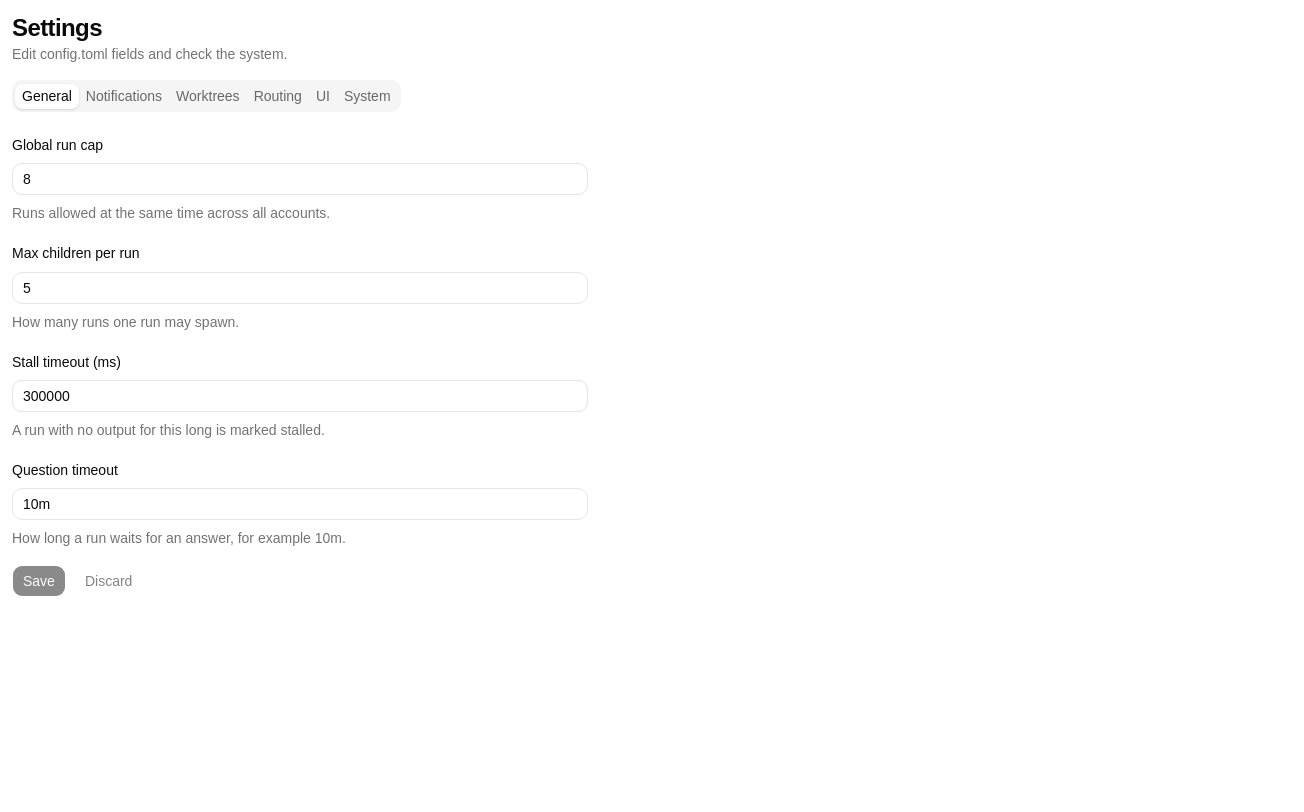
Test: SettingsPage drafts and key file › keeps the draft when the System tab is opened and closed
Replace the text in the number field labelled "Global run cap" with "3" at (300, 179), box [12,163,588,195]
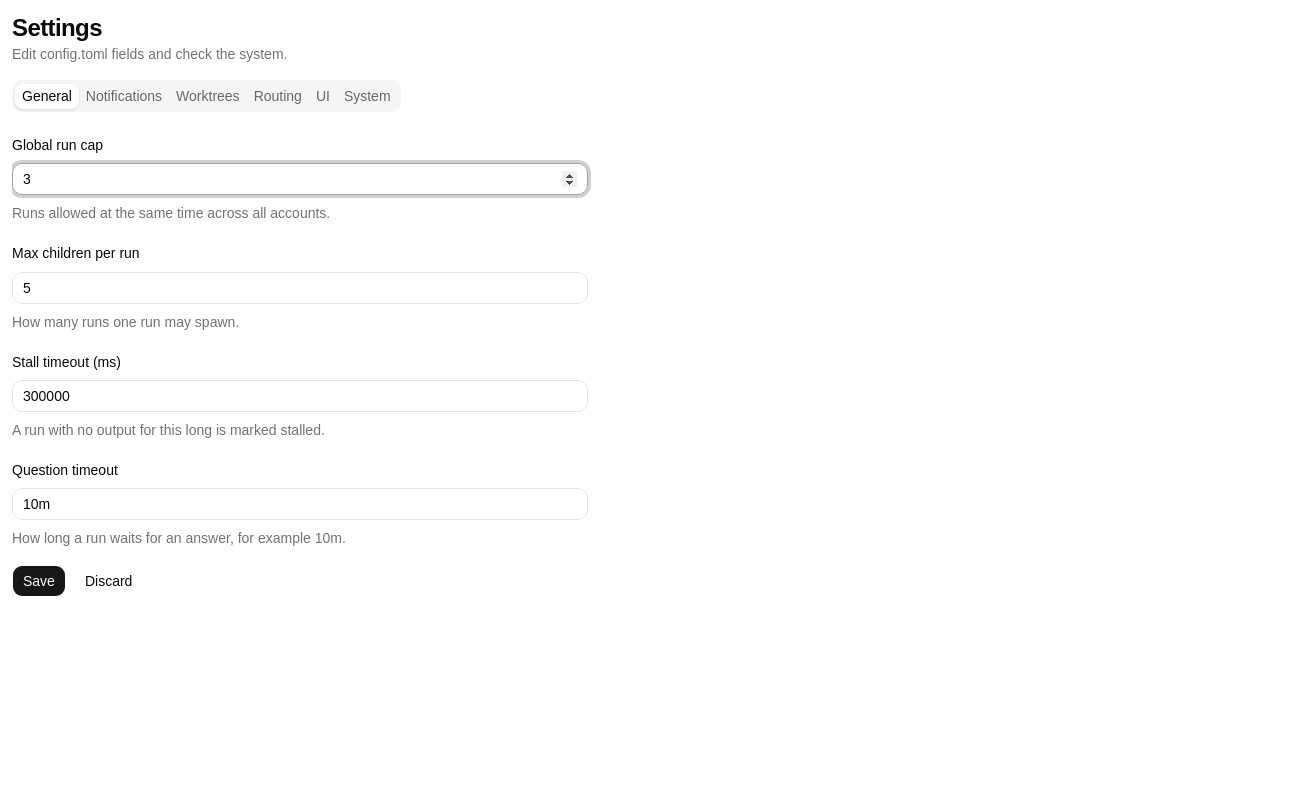
Click the tab "System" at (367, 96), box [337,84,398,108]
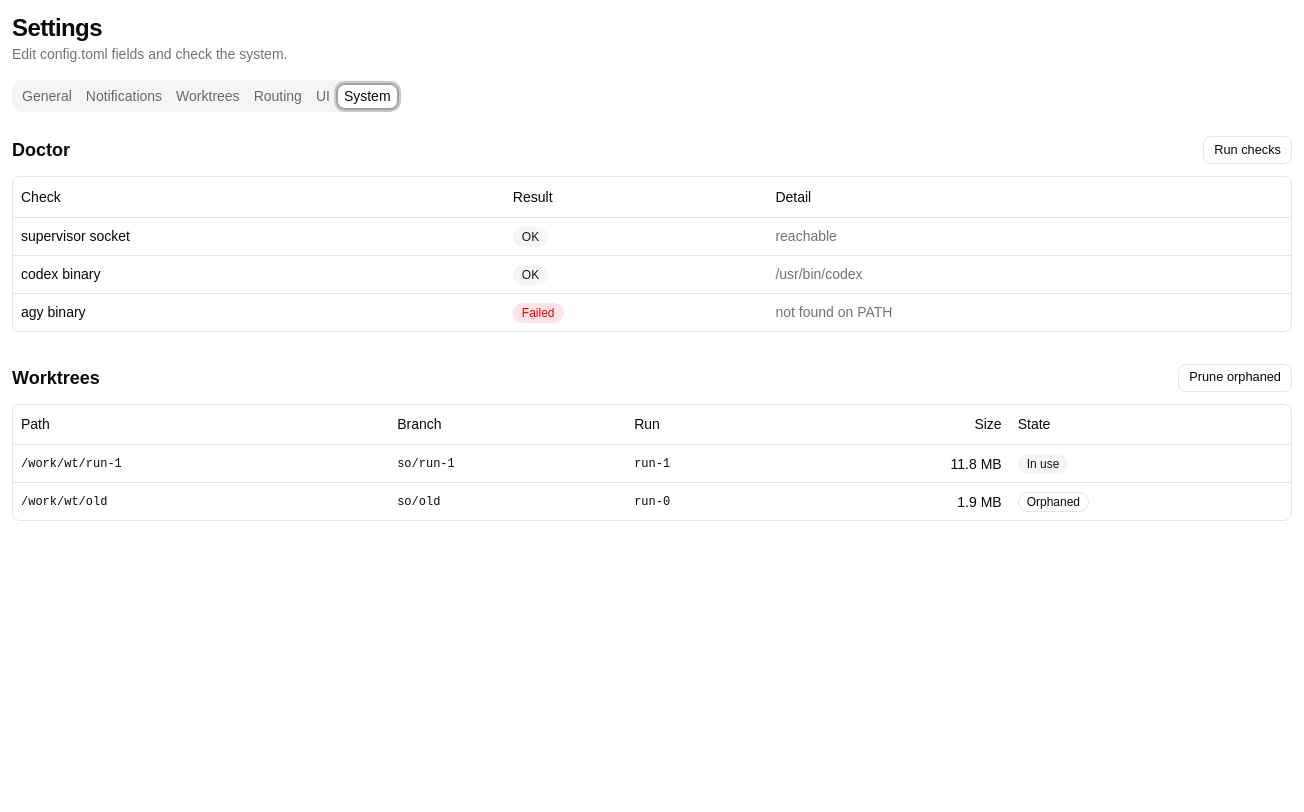
Now the row "agy binary Failed not found on PATH" is shown, box [13,293,1291,330]
Now the button "Save" is gone
Click the tab "General" at (47, 96), box [15,84,79,108]
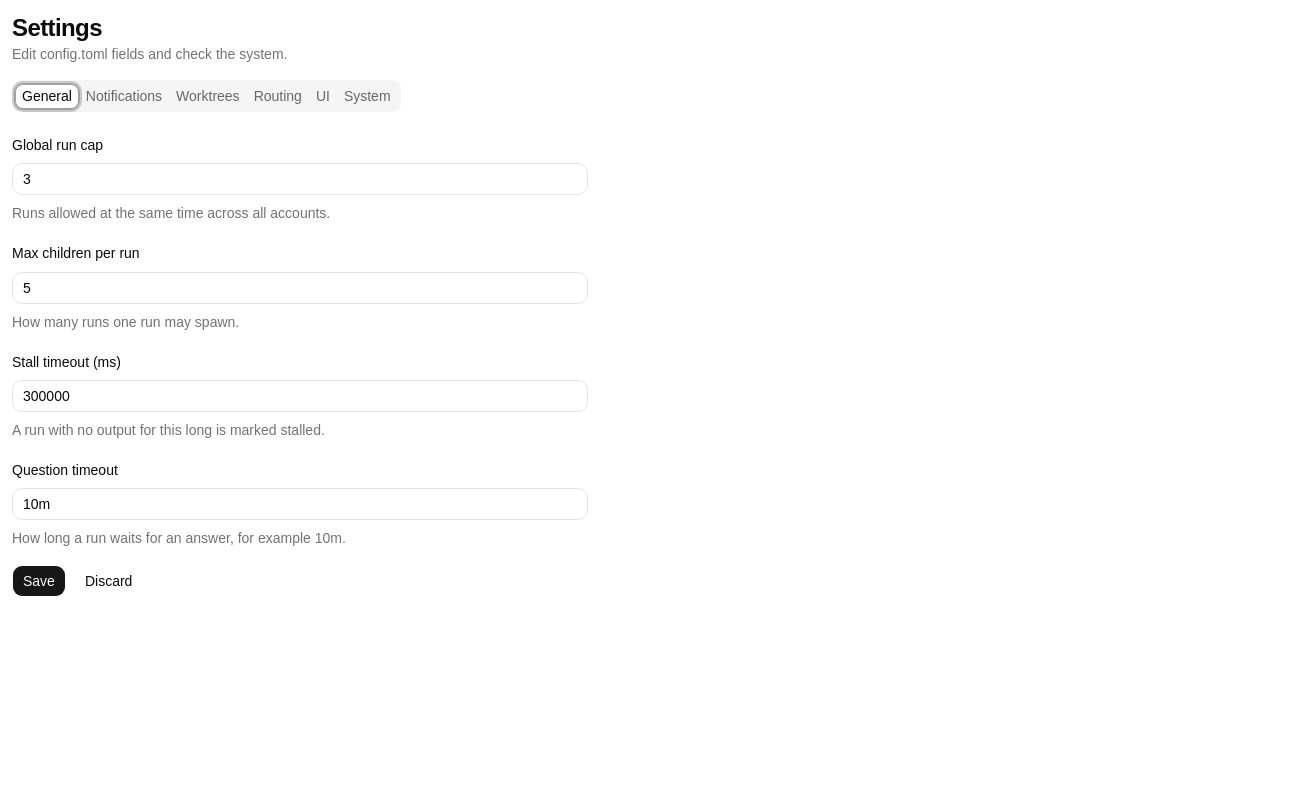
Now the button "Save" is enabled, box [12,565,66,597]
Now the number field labelled "Global run cap" holds "3", box [12,163,588,195]
